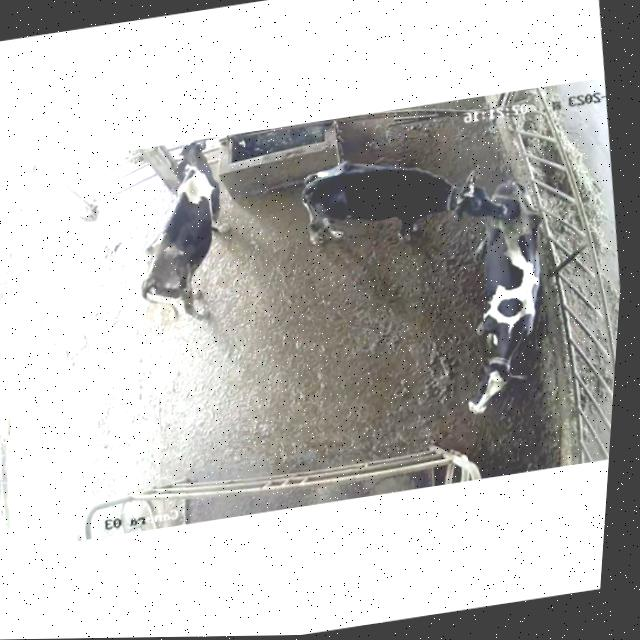propping: (409, 151, 548, 244)
